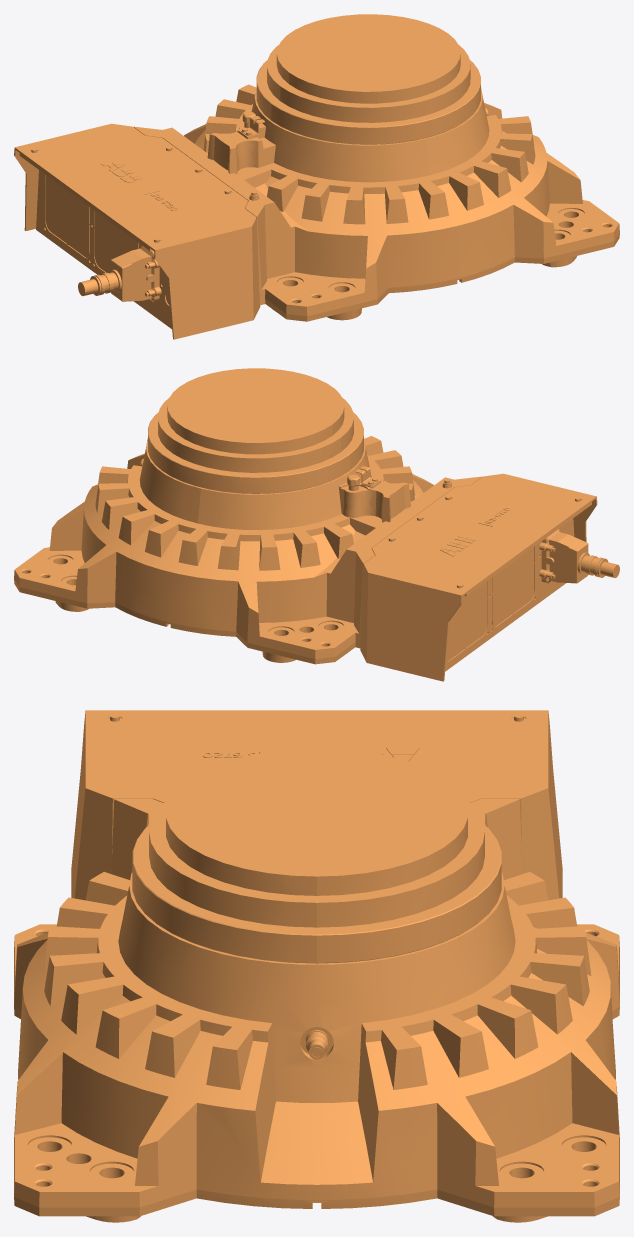
The picture shows the model from 3 angles, top to bottom: view 1: azimuth 30°, elevation 25°; view 2: azimuth 150°, elevation 25°; view 3: azimuth 270°, elevation 25°; orthographic projection. The views are drawn at different scales.
Parts seen in each view (by area): view 1: mesh_0; view 2: mesh_0; view 3: mesh_0.
Boxes of the visible parts, x1,y1,x2,y2 form: mesh_0: (14,14,619,339); mesh_0: (14,368,619,681); mesh_0: (14,710,619,1222).
Size of the model in its own units: 1.12 by 0.374 by 0.72.
